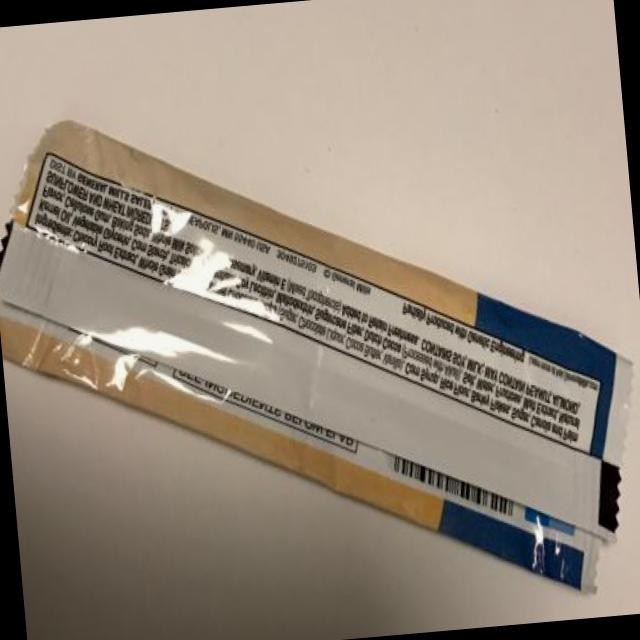giay_goi: (0, 120, 631, 593)
